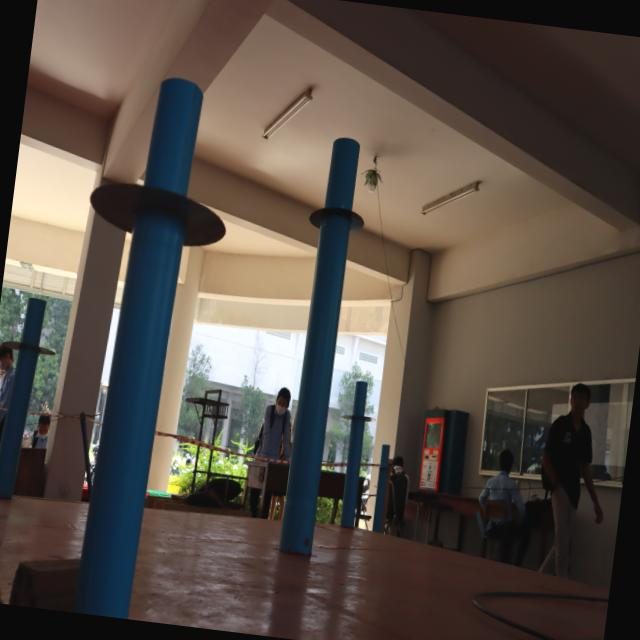pole: (76, 66, 242, 344), (296, 131, 378, 284), (1, 287, 60, 398), (340, 369, 380, 456), (371, 436, 398, 485)
